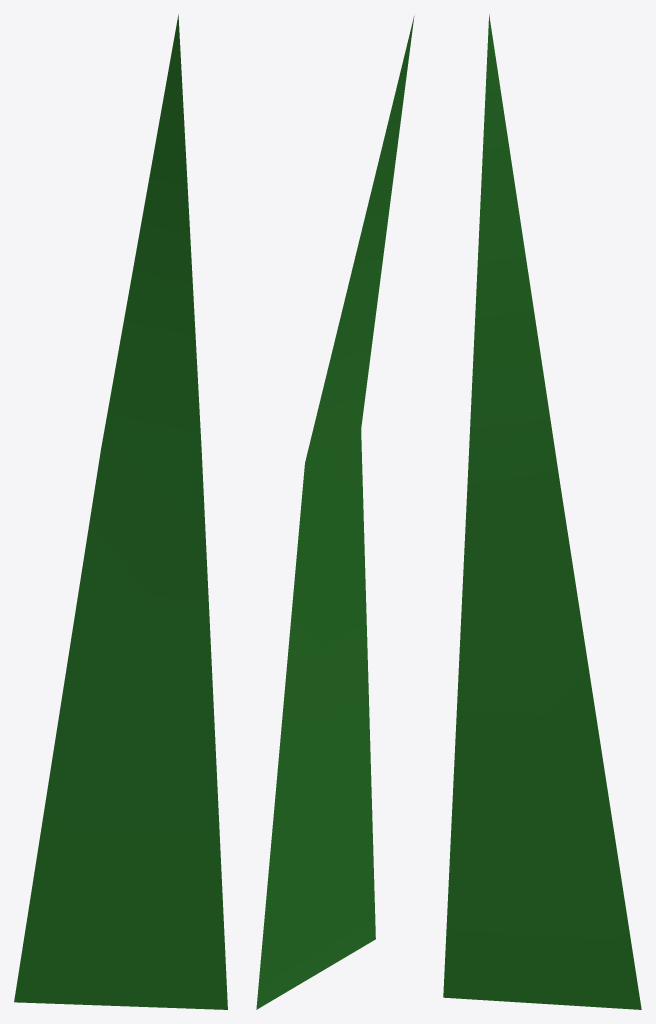
File: grass_blade_B.fbx
3 views of the same model, side by side, from view 1: azimuth 90°, elevation 25°; view 2: azimuth 150°, elevation 25°; view 3: azimuth 270°, elevation 25° (orthographic). The views are drawn at different scales.
Visible parts, largest first — view 1: grass_blade_B; view 2: grass_blade_B; view 3: grass_blade_B.
Part boxes in pixels (x1,y1,x2,y2): grass_blade_B: [14, 14, 227, 1009]; grass_blade_B: [256, 16, 414, 1009]; grass_blade_B: [443, 14, 641, 1009].
Bounding box in the file's own units: 3.62 × 40.63 × 7.64.
